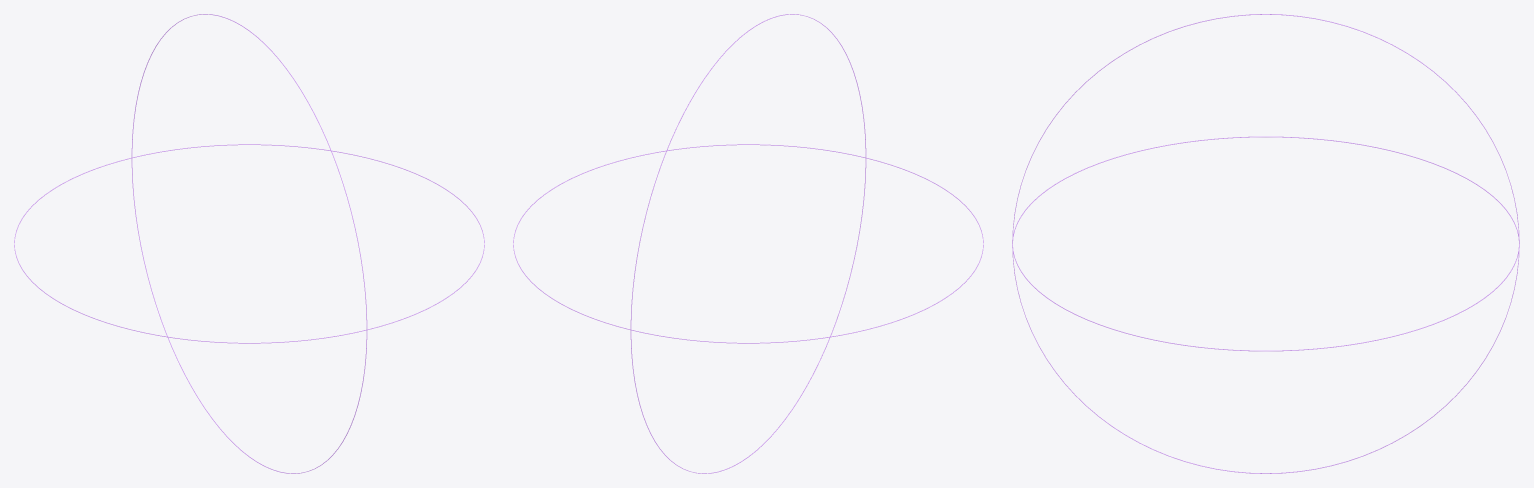
The model's file is layout-violet-rings.glb.
3 views of the same model, side by side, from view 1: azimuth 30°, elevation 25°; view 2: azimuth 150°, elevation 25°; view 3: azimuth 270°, elevation 25° (orthographic). The views are drawn at different scales.
Size of the model in its own units: 2 by 2 by 2.
